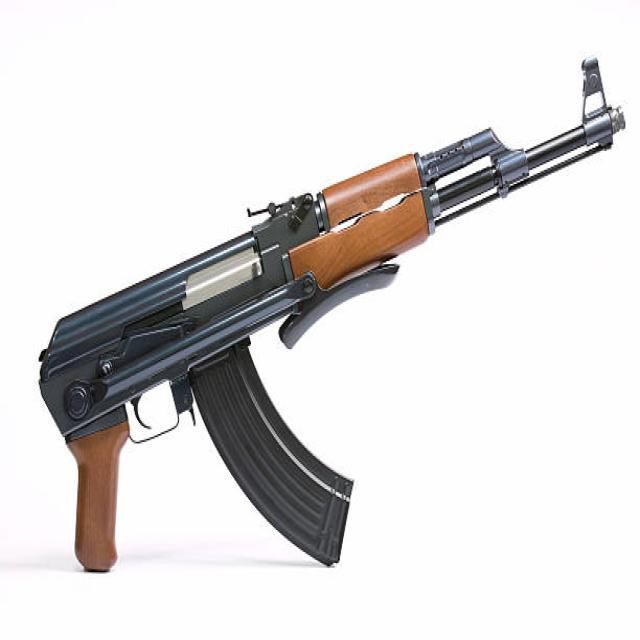rifle: (34, 57, 630, 590)
